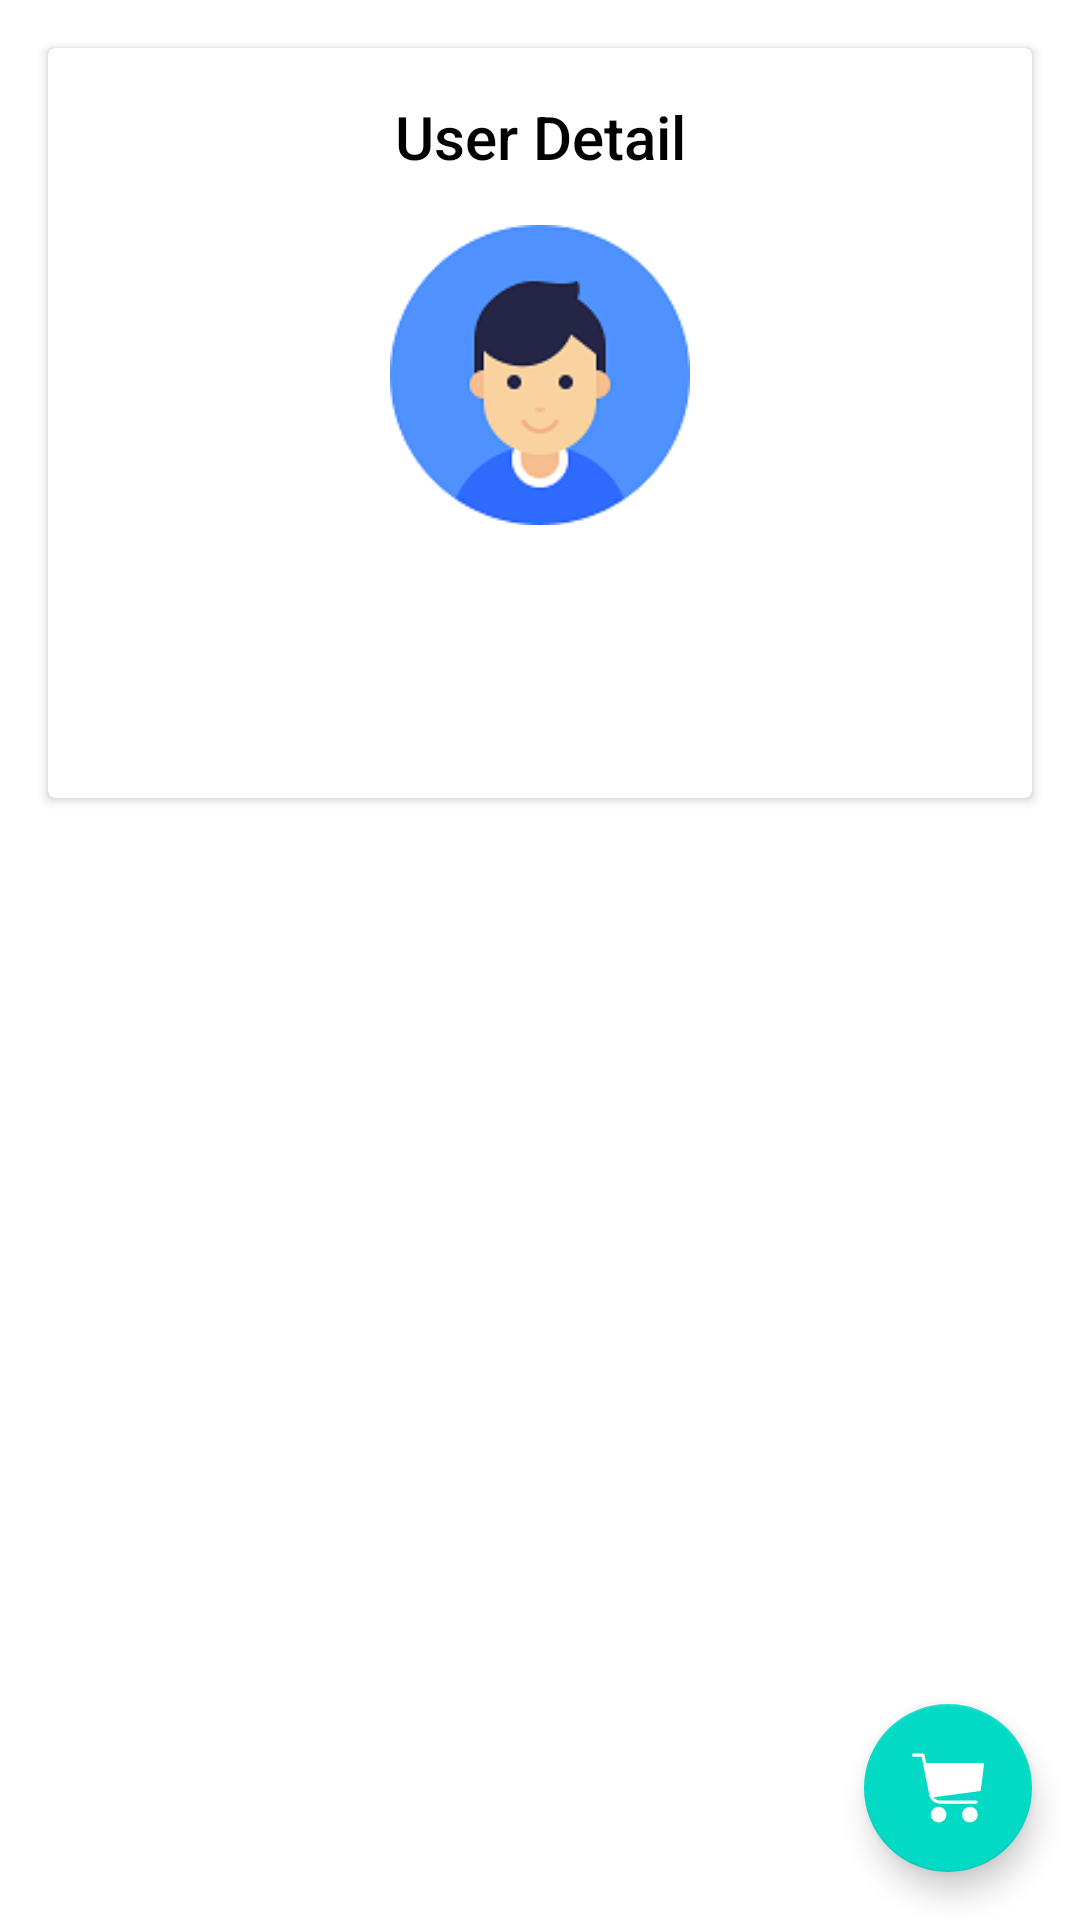

Point at icon controls on the screen. Image size 1080 × 1920, points as point (x, y).
carts: point (948, 1788)
